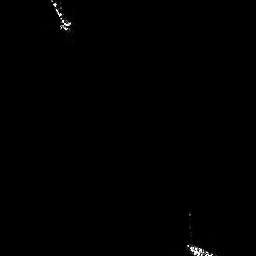ship: (185, 208, 217, 256), (46, 1, 71, 31)
